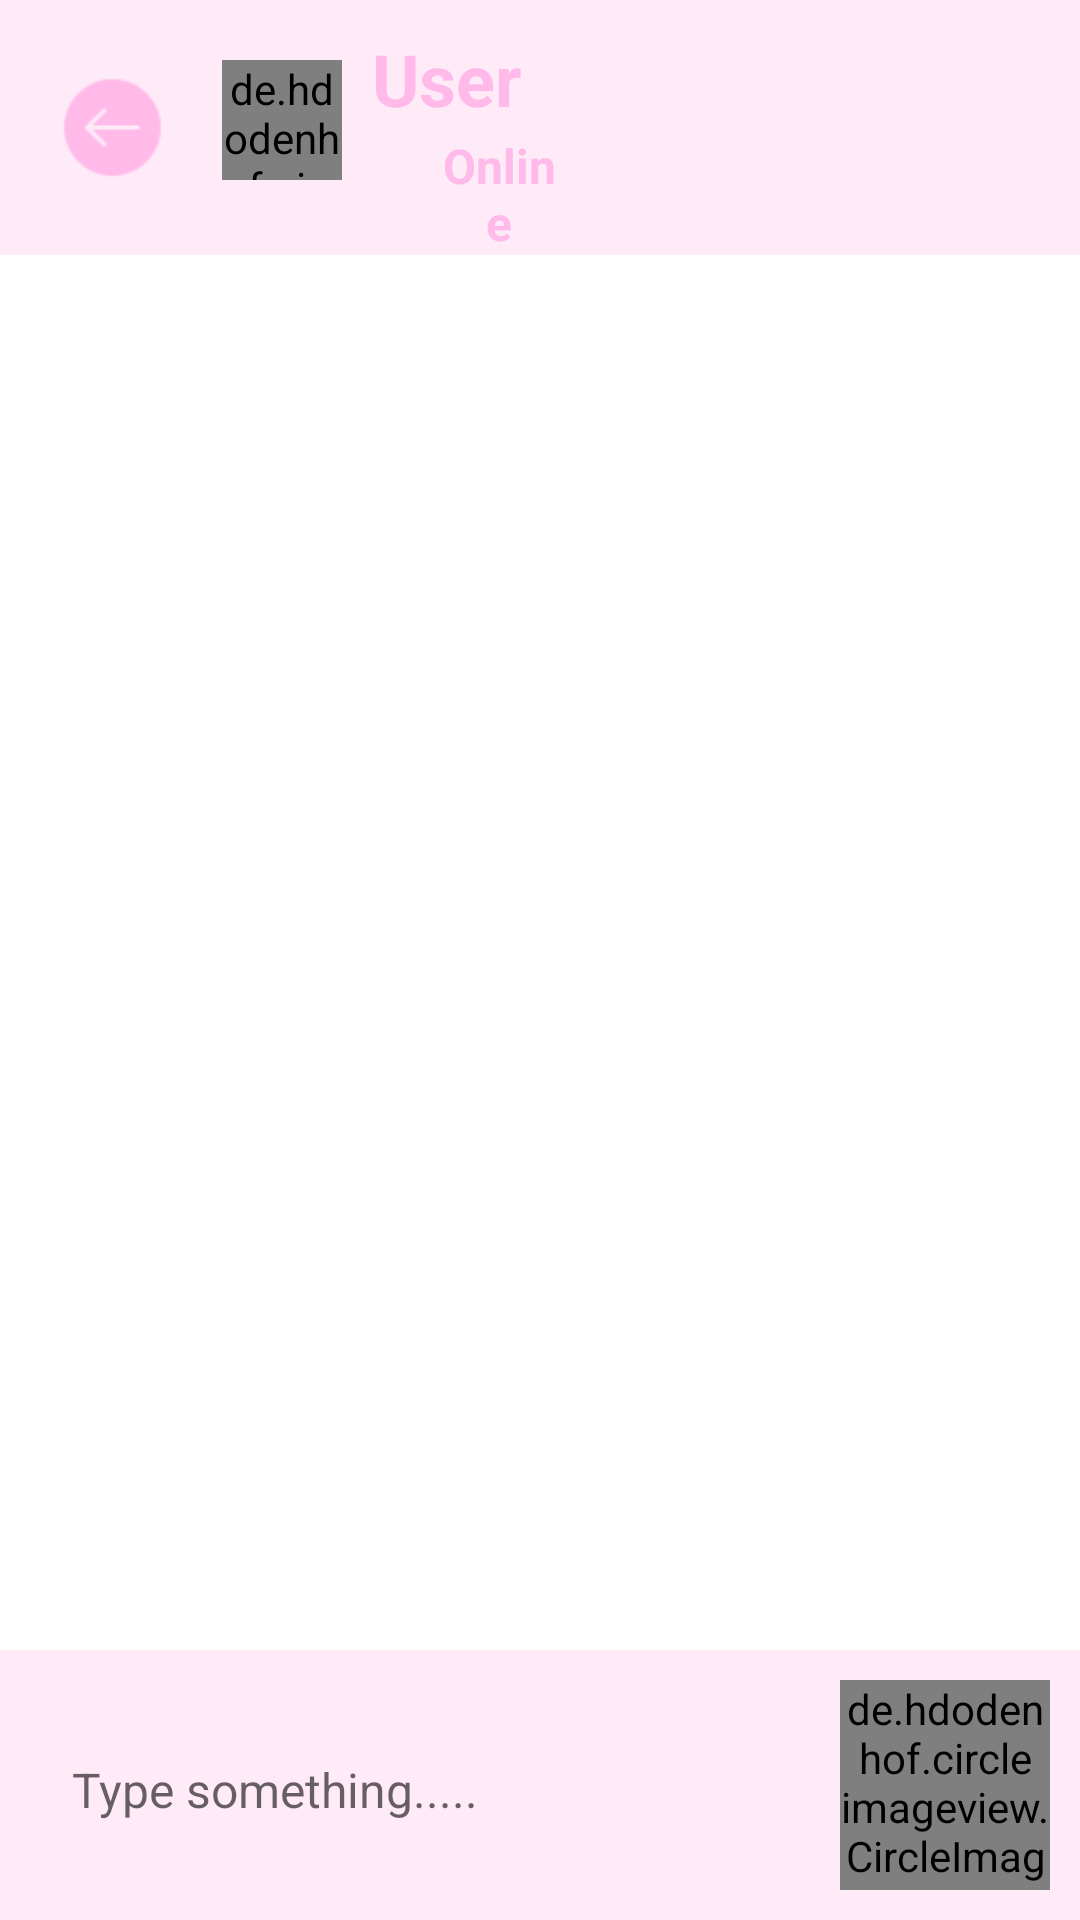

Icons on this 1080 x 1920 Android screen, each with the point to tap as [x,y]:
back arrow: [112,127]
